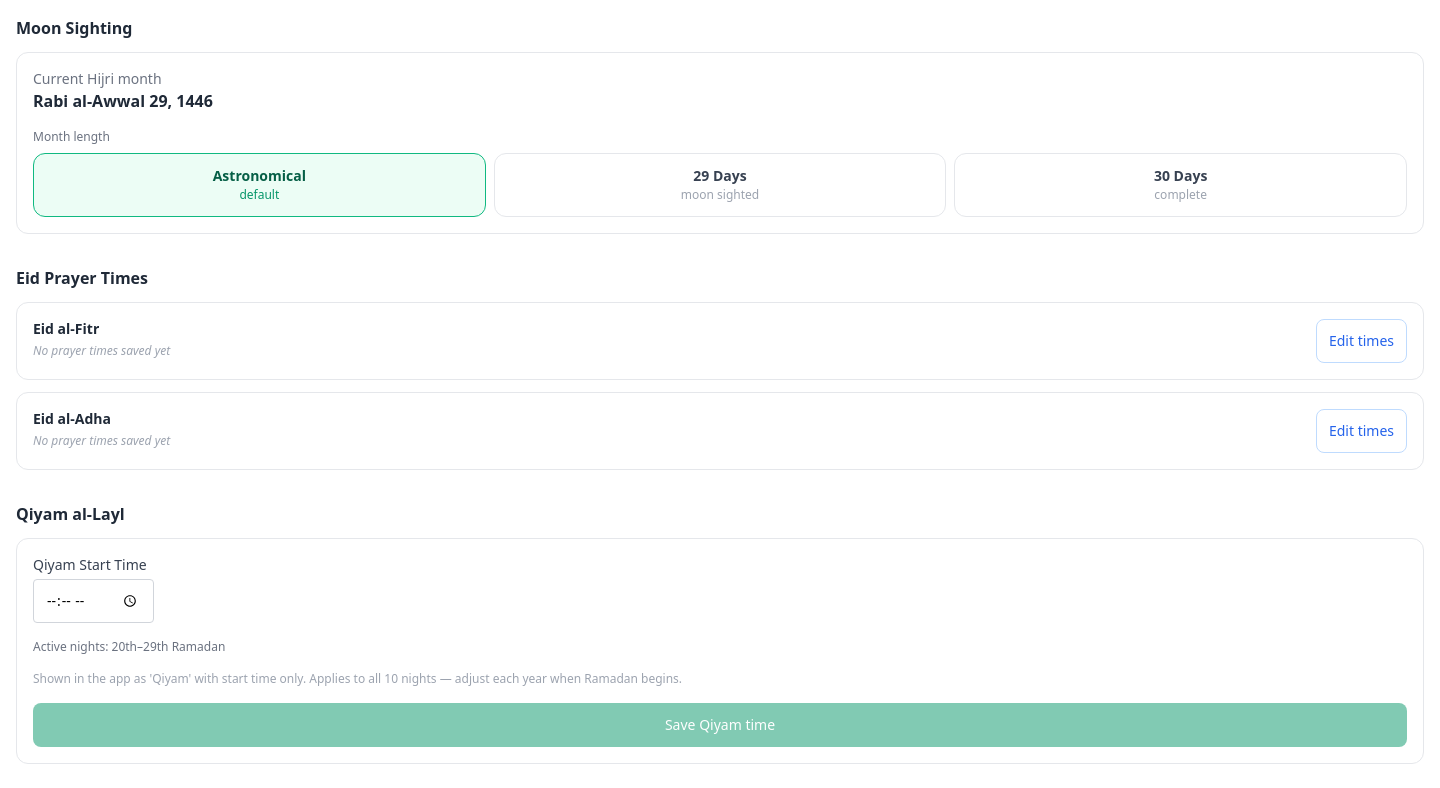
Test case: RamadanEidPage — unit tests › shows error message when POST fails for non-Eid month
Click the button with test id "month-length-tile-29" at (720, 185), box [494,153,946,217]
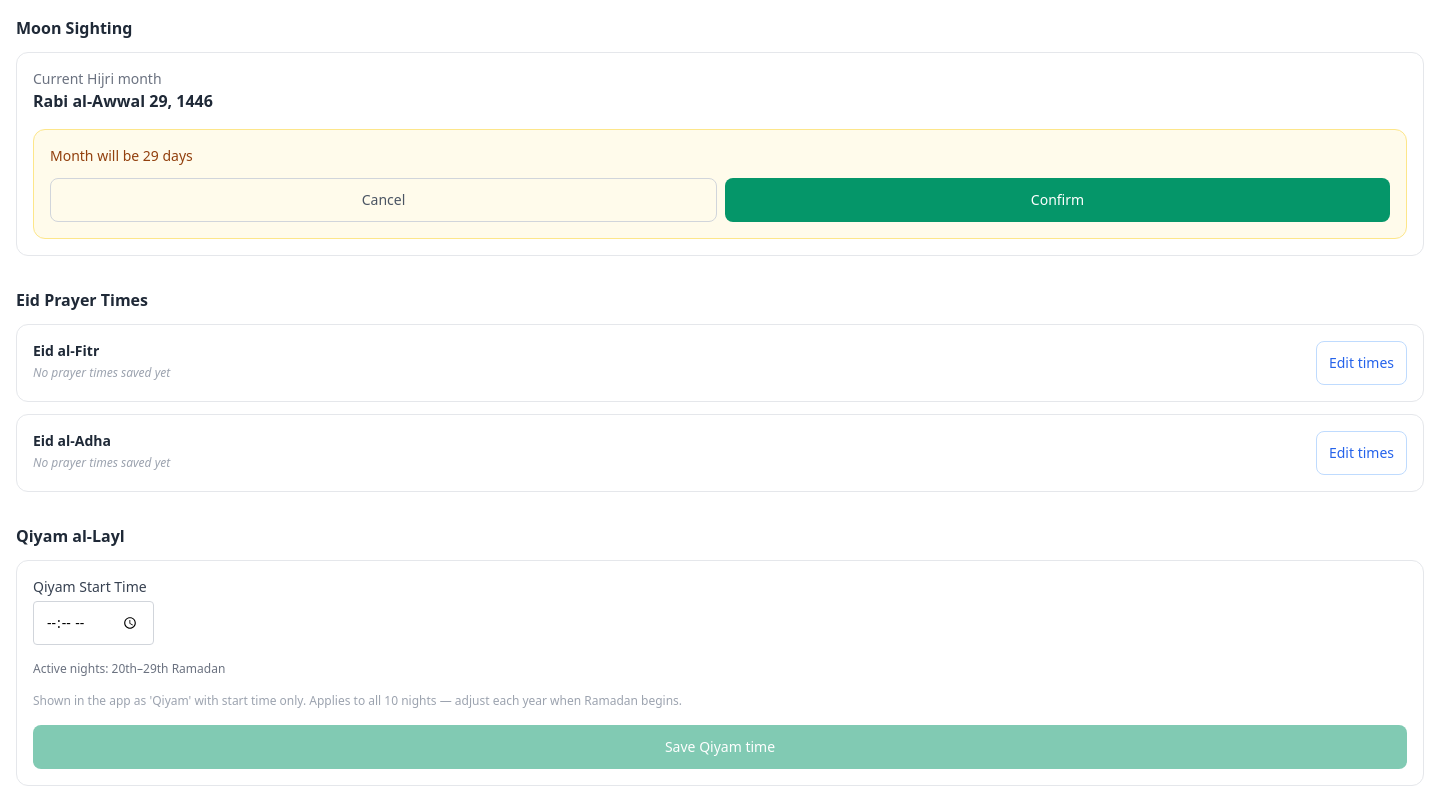
Click the button "Confirm" at (1058, 200), box [725,178,1390,222]
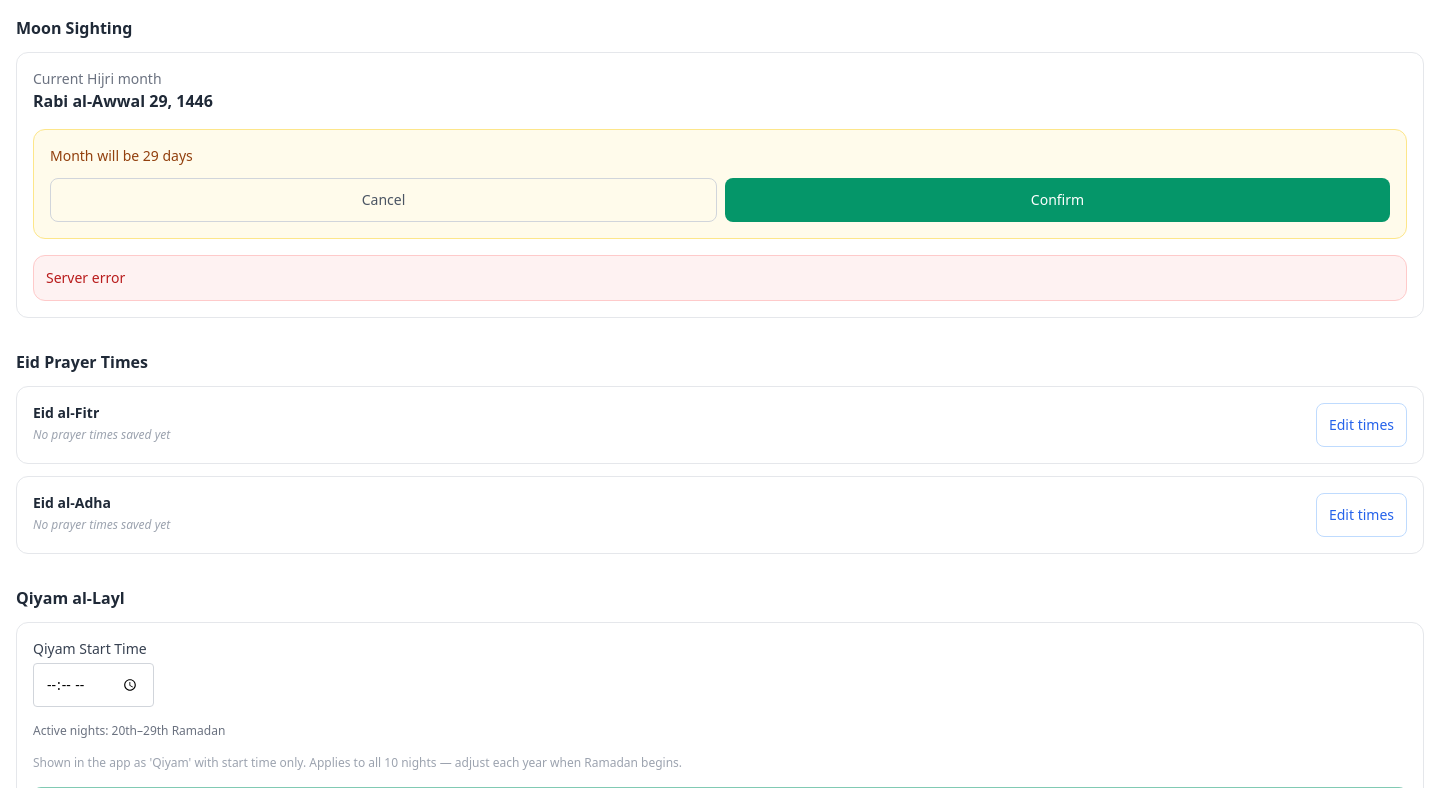
Now the text "Server error" is shown, box [33,255,1407,301]
